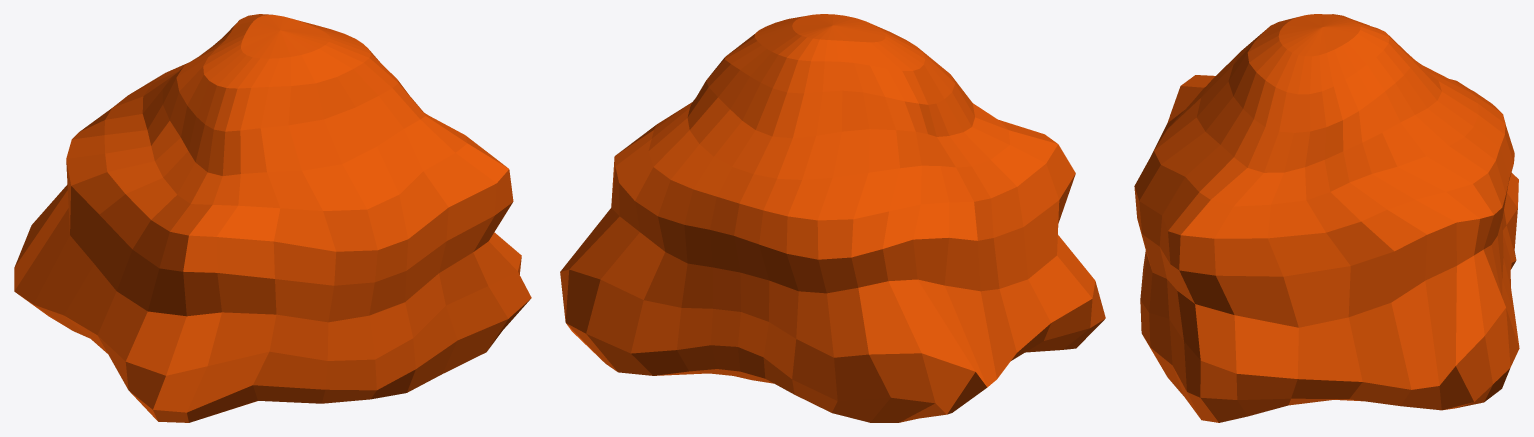
The model's file is tree-autumn-leaves-026.glb.
3 views of the same model, side by side, from view 1: azimuth 30°, elevation 25°; view 2: azimuth 150°, elevation 25°; view 3: azimuth 270°, elevation 25° (orthographic). The views are drawn at different scales.
Visible parts, largest first — view 1: Plane.047_358; view 2: Plane.047_358; view 3: Plane.047_358.
Boxes of the visible parts, x1=… form: Plane.047_358: x1=14, y1=14, x2=531, y2=422; Plane.047_358: x1=560, y1=14, x2=1105, y2=422; Plane.047_358: x1=1134, y1=14, x2=1519, y2=422.
Bounding box in the file's own units: 1.11 × 0.8445 × 0.8905.
